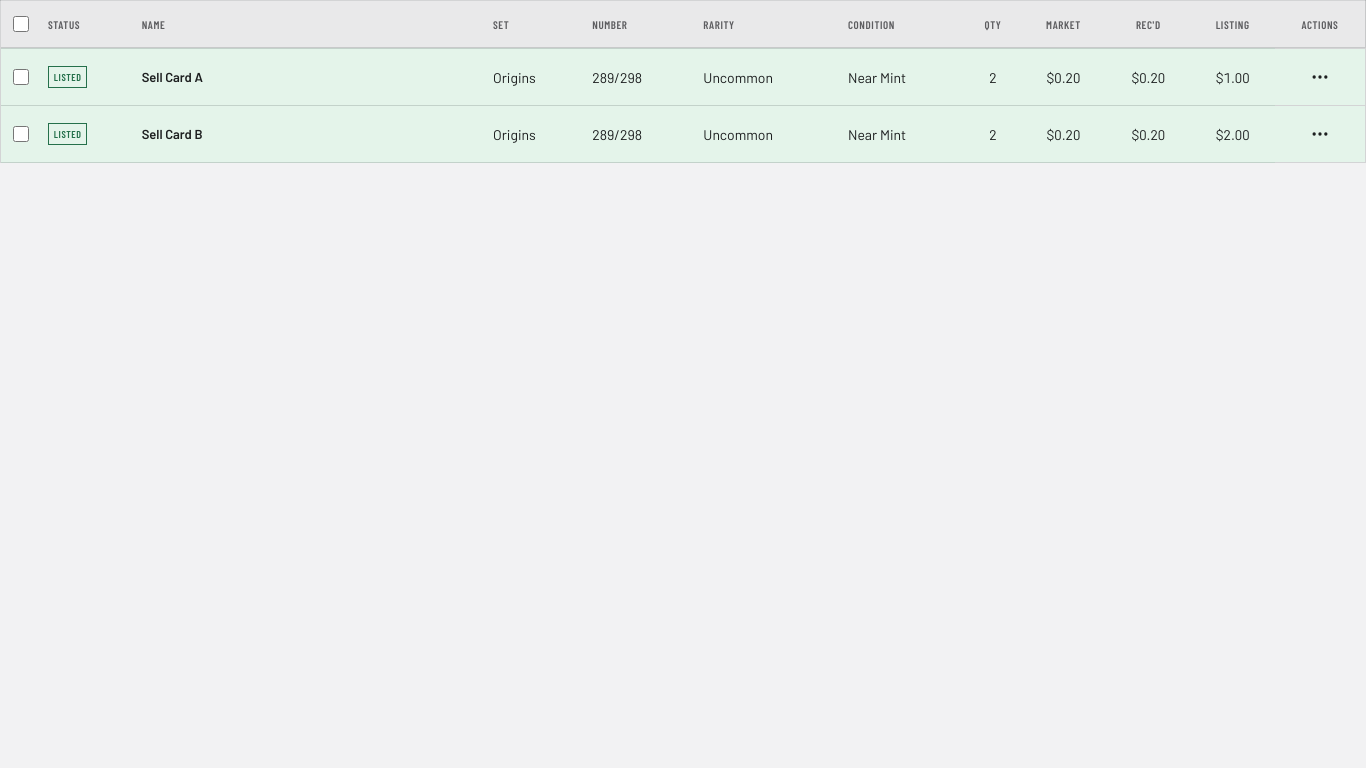
Test: CardTable sell flow (enableSellFlow) › passes defaultShippingCollectedCents through to BulkSellModal
Click the checkbox named "Select all order-eligible cards" at (21, 24), box [13, 16, 29, 32]
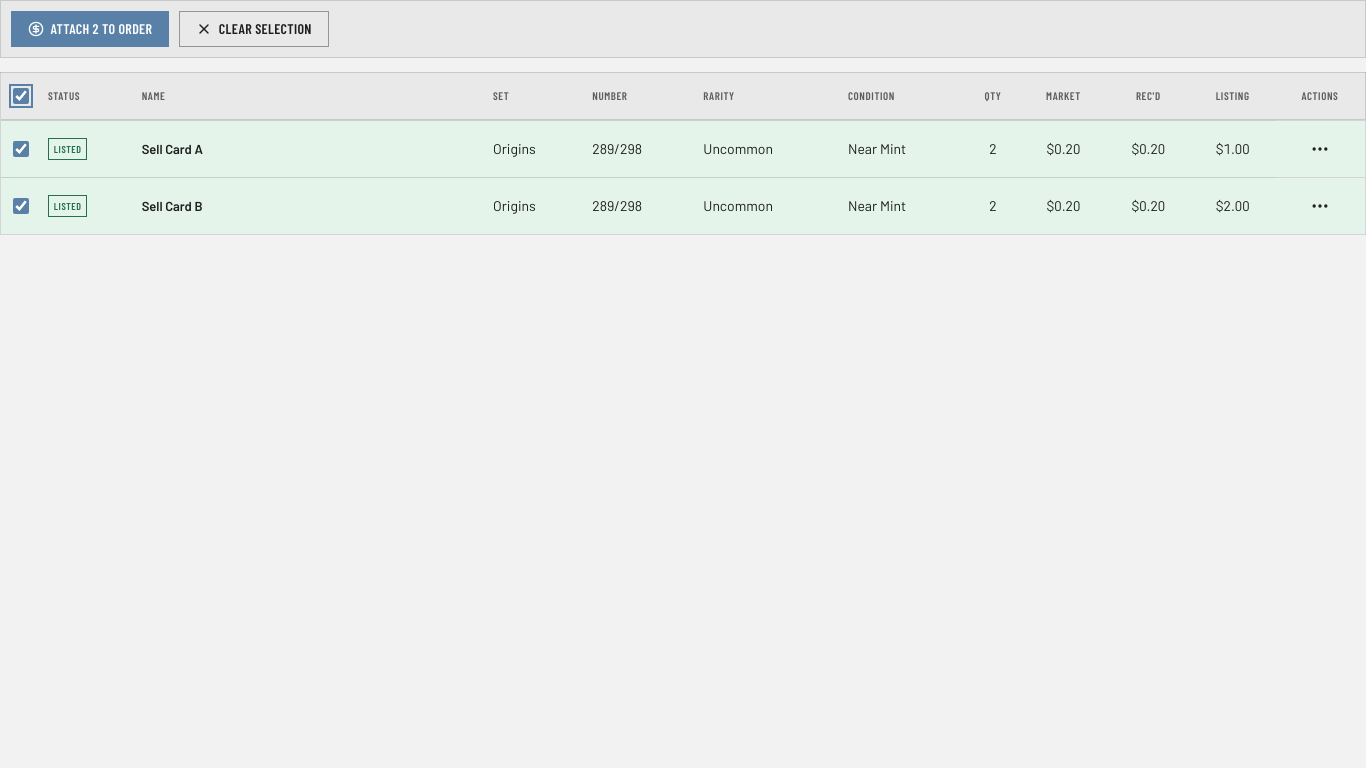
Click the button "Attach 2 to Order" at (90, 29), box [11, 11, 169, 47]
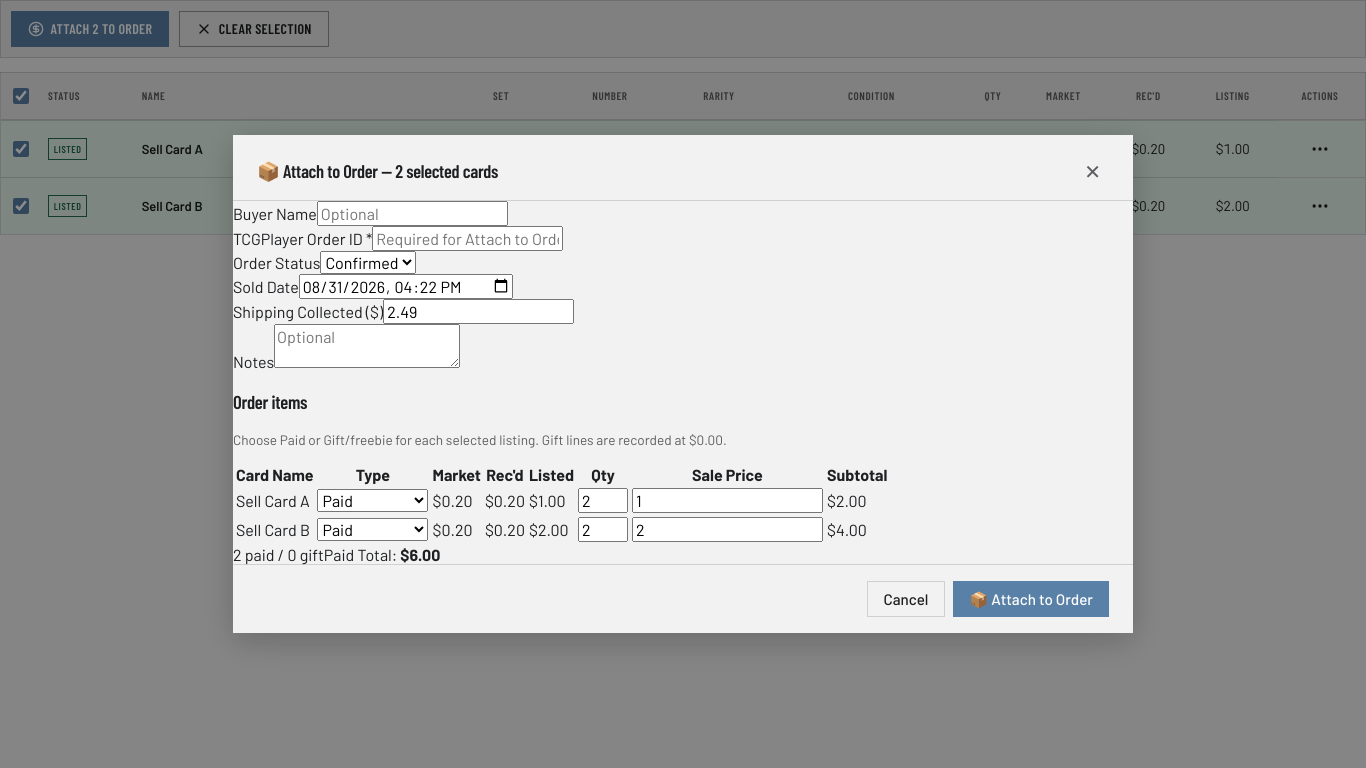
expect the number field labelled "Shipping Collected ($)" holds "2.49": met, box [383, 299, 574, 324]
